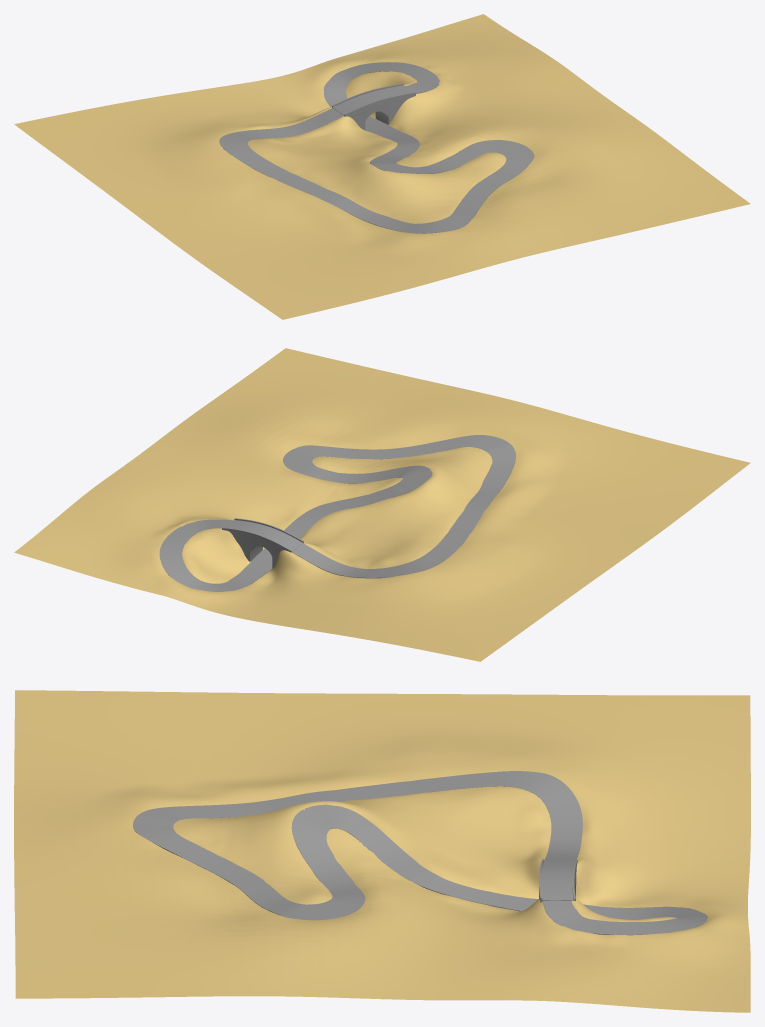
The model's file is Jalan rev 2 (1).fbx.
3 views of the same model, one above another, from view 1: azimuth 30°, elevation 25°; view 2: azimuth 150°, elevation 25°; view 3: azimuth 270°, elevation 25° (orthographic). The views are drawn at different scales.
Visible parts, largest first — view 1: Ground High, Track.003, Track.004; view 2: Ground High, Track.003, Track.004; view 3: Ground High, Track.003, Track.004.
Part boxes in pixels (x1,y1,x2,y2): Ground High: (14,14,750,319); Track.003: (219,62,534,233); Track.004: (332,83,415,130); Ground High: (14,348,750,661); Track.003: (159,435,515,591); Track.004: (222,518,303,568); Ground High: (14,690,750,1012); Track.003: (133,771,707,935); Track.004: (539,859,577,902).
Bounding box in the file's own units: 54790 × 5755 × 54472.
